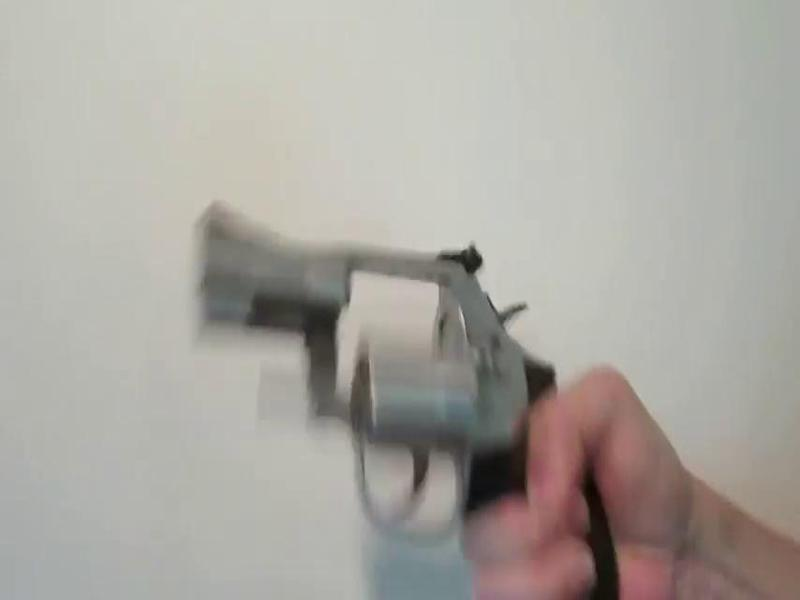Revolver: (173, 177, 621, 600)
